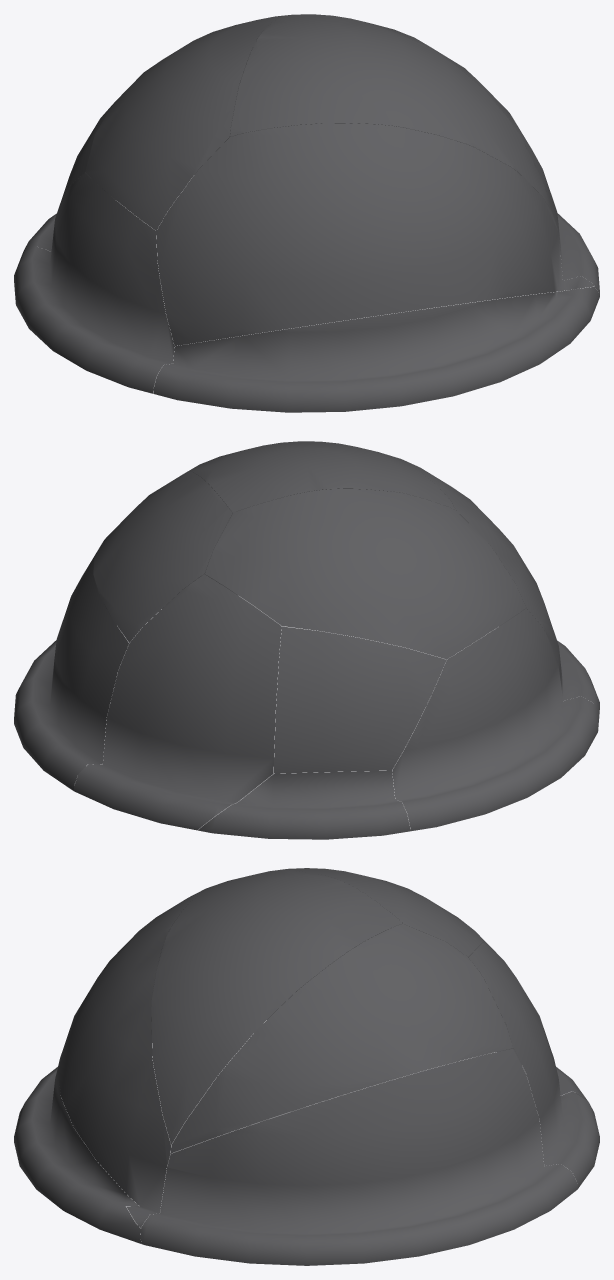
File: glass.fbx
3 renders of one model, top to bottom at view 1: azimuth 30°, elevation 25°; view 2: azimuth 150°, elevation 25°; view 3: azimuth 270°, elevation 25°, orthographic.
Visible parts, largest first — view 1: glass_cell.003, glass_cell.002, glass_cell.004, glass_cell.006, glass_cell.009, glass_cell.007, glass_cell.008, glass_cell, glass_cell.005; view 2: glass_cell.009, glass_cell.001, glass_cell.006, glass_cell, glass_cell.007, glass_cell.008, glass_cell.005, glass_cell.004, glass_cell.003, glass_cell.002; view 3: glass_cell.007, glass_cell.008, glass_cell.004, glass_cell.003, glass_cell.002, glass_cell.001, glass_cell.009.
Boxes of the visible parts, x1=… form: glass_cell.003: x1=156, y1=123, x2=594, y2=345; glass_cell.002: x1=153, y1=286, x2=599, y2=412; glass_cell.004: x1=230, y1=14, x2=551, y2=210; glass_cell.006: x1=14, y1=173, x2=174, y2=393; glass_cell.009: x1=86, y1=15, x2=282, y2=230; glass_cell.007: x1=274, y1=123, x2=599, y2=297; glass_cell.008: x1=301, y1=14, x2=554, y2=217; glass_cell: x1=61, y1=88, x2=128, y2=199; glass_cell.005: x1=19, y1=184, x2=113, y2=261; glass_cell.009: x1=205, y1=488, x2=525, y2=659; glass_cell.001: x1=74, y1=574, x2=281, y2=830; glass_cell.006: x1=392, y1=608, x2=598, y2=831; glass_cell: x1=274, y1=626, x2=446, y2=773; glass_cell.007: x1=14, y1=547, x2=195, y2=790; glass_cell.008: x1=93, y1=471, x2=232, y2=642; glass_cell.005: x1=198, y1=770, x2=410, y2=839; glass_cell.004: x1=189, y1=441, x2=455, y2=512; glass_cell.003: x1=199, y1=451, x2=561, y2=682; glass_cell.002: x1=232, y1=591, x2=599, y2=718; glass_cell.007: x1=140, y1=1048, x2=577, y2=1265; glass_cell.008: x1=170, y1=923, x2=513, y2=1153; glass_cell.004: x1=151, y1=870, x2=402, y2=1144; glass_cell.003: x1=58, y1=883, x2=220, y2=1228; glass_cell.002: x1=14, y1=1017, x2=151, y2=1243; glass_cell.001: x1=468, y1=941, x2=599, y2=1188; glass_cell.009: x1=280, y1=868, x2=484, y2=956.
Size of the model in its own units: 674 by 318 by 674.
Materials: 1 (1 with a texture image).
